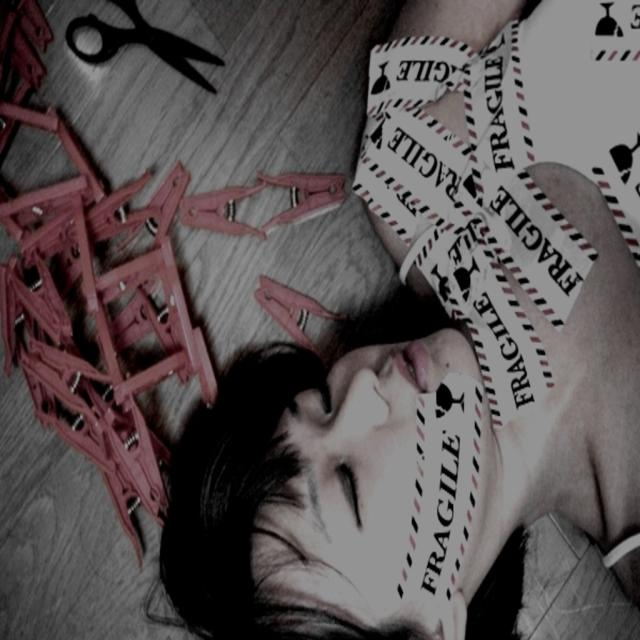scissors: (64, 0, 225, 95)
